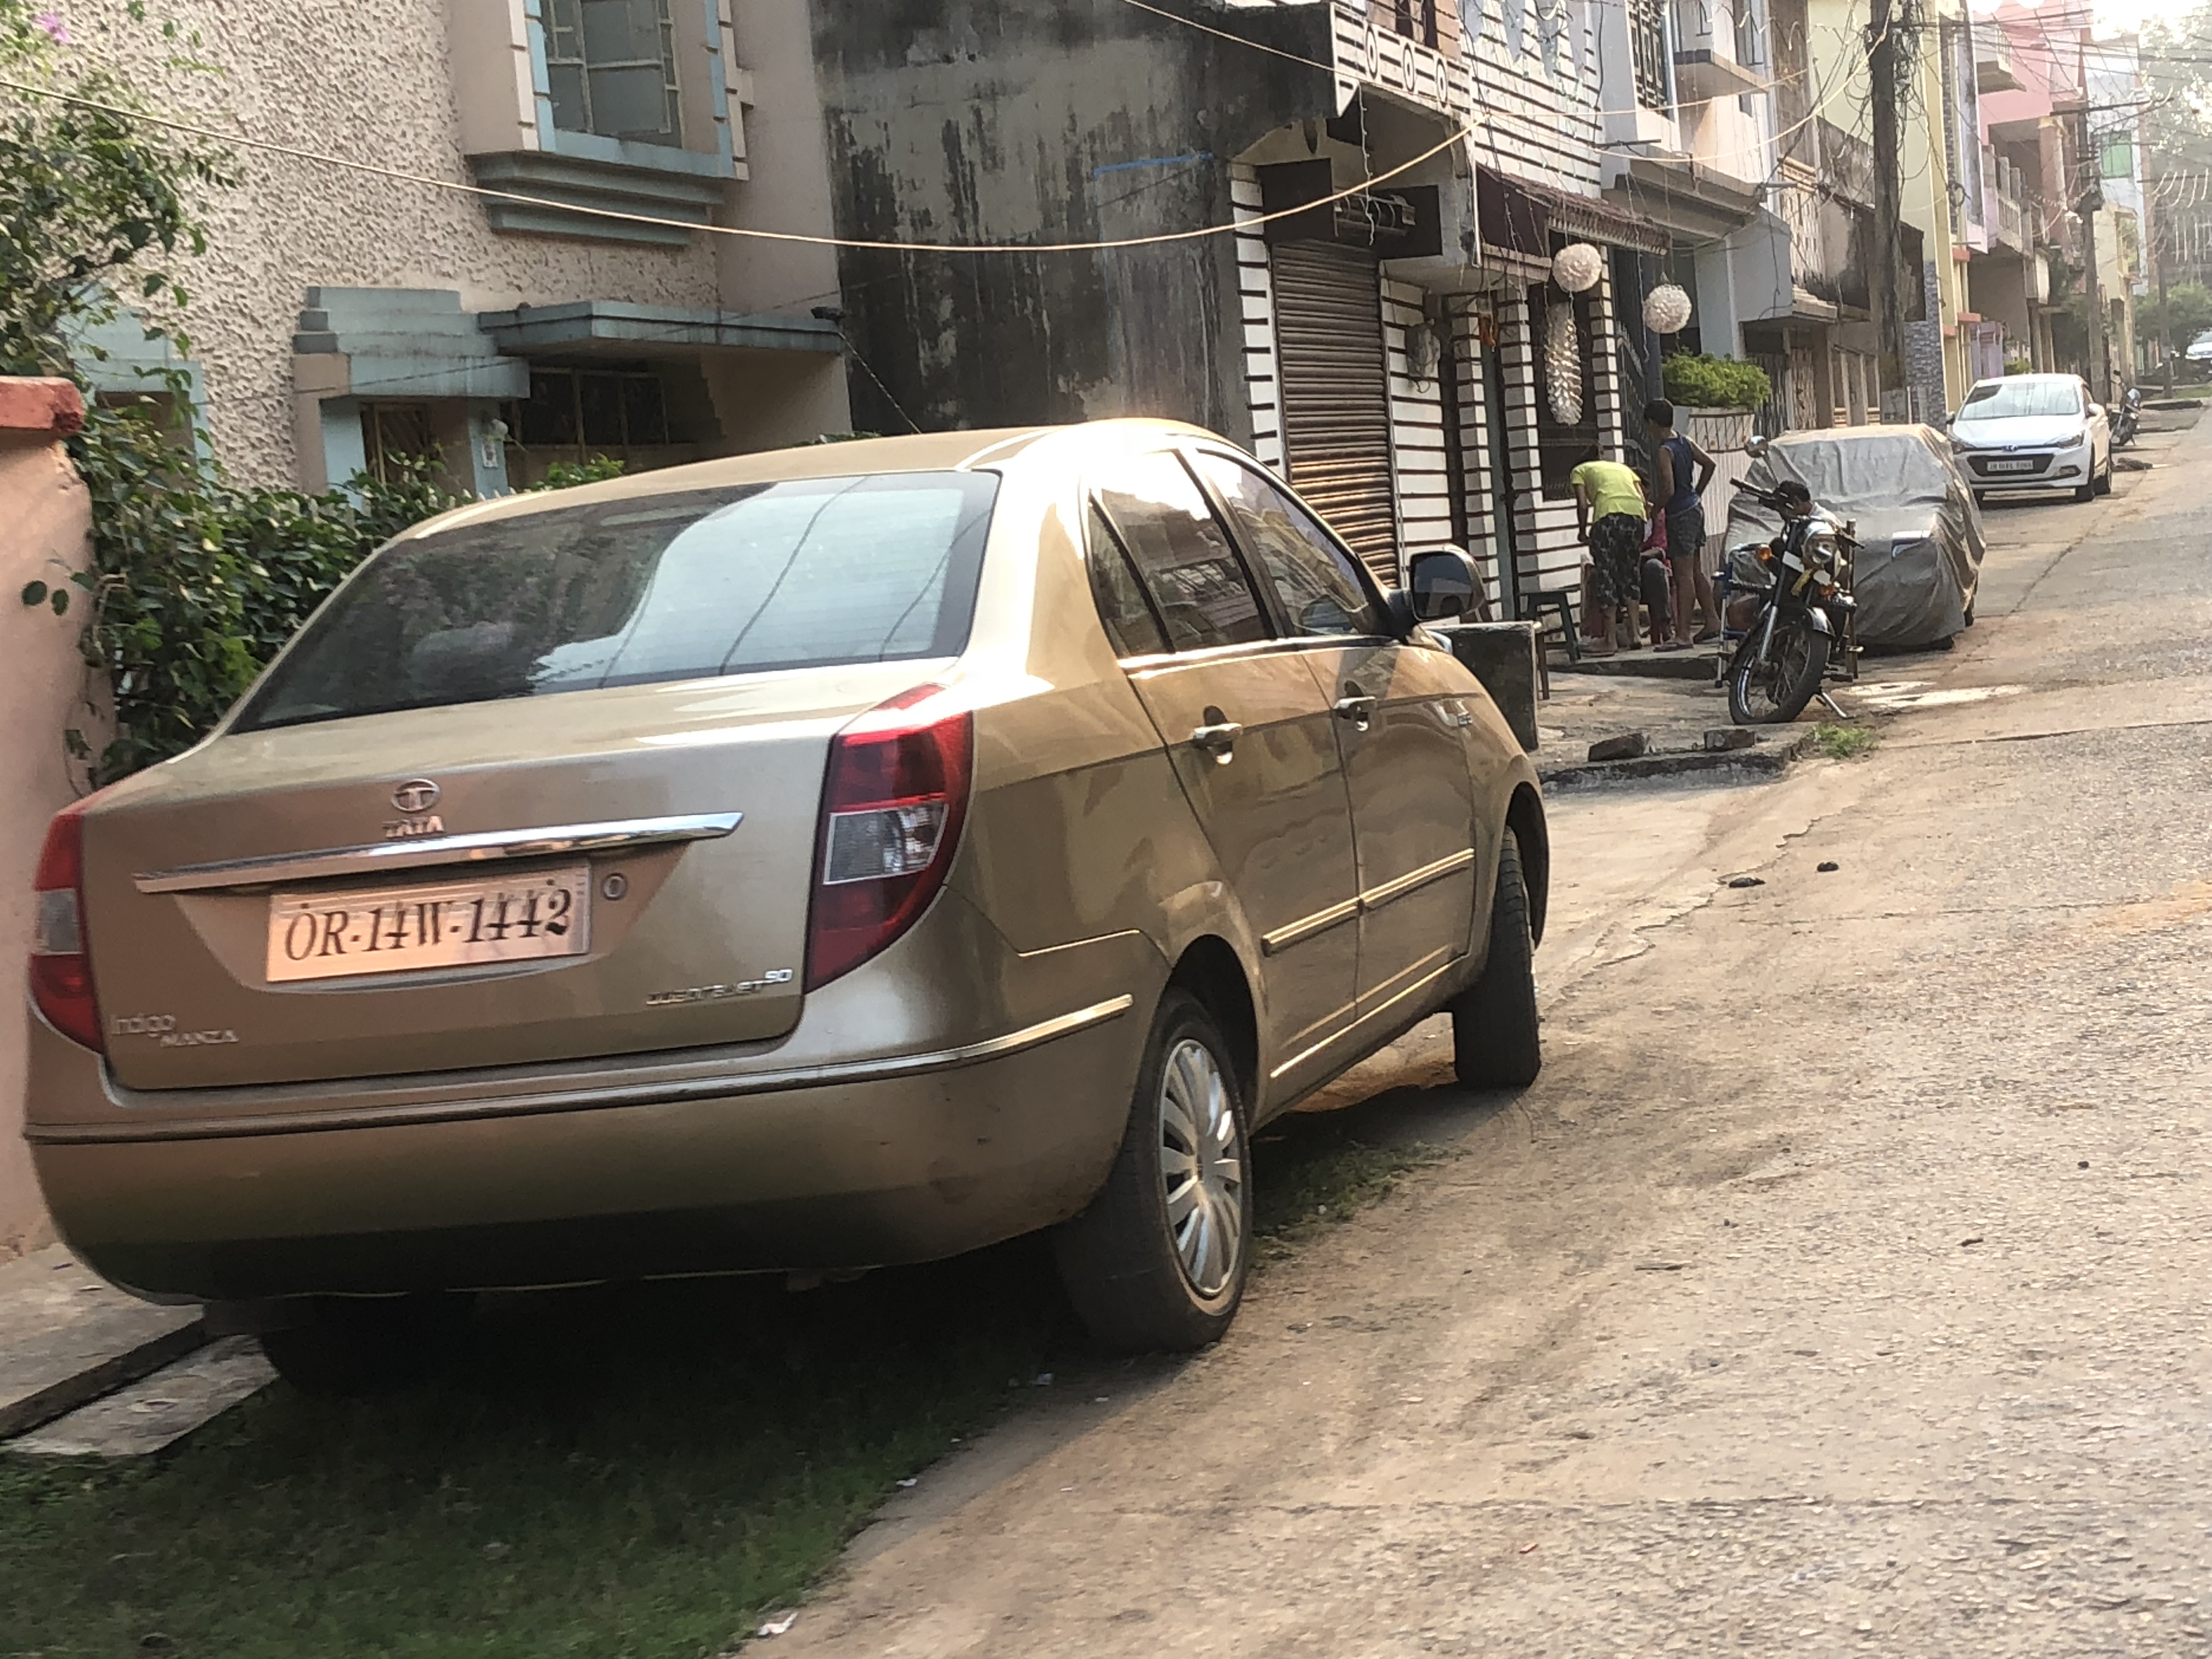licenseplate: (255, 859, 603, 971)
